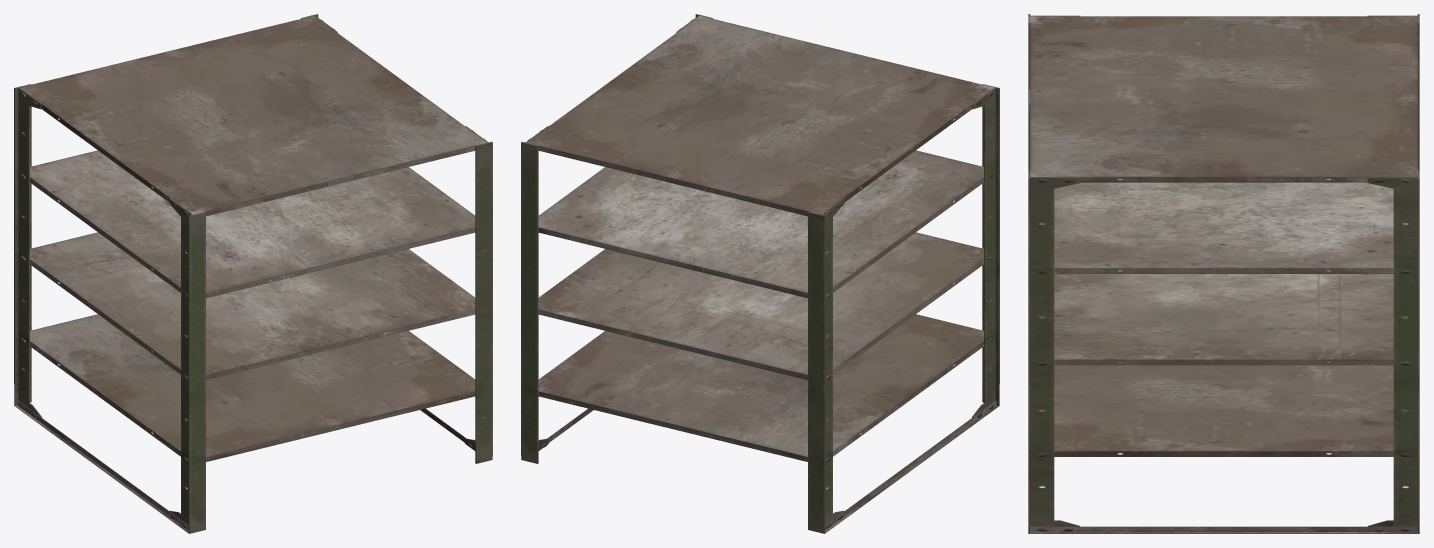
Rendered from ph-worn-metal-rack.glb.
The picture shows the model from 3 angles, left to right: view 1: azimuth 30°, elevation 25°; view 2: azimuth 150°, elevation 25°; view 3: azimuth 270°, elevation 25°; orthographic projection. The views are drawn at different scales.
Visible parts, largest first — view 1: worn_metal_rack; view 2: worn_metal_rack; view 3: worn_metal_rack.
Part boxes in pixels (left/top/right/bottom): worn_metal_rack: left=14, top=14, right=492, bottom=533; worn_metal_rack: left=521, top=14, right=999, bottom=533; worn_metal_rack: left=1028, top=14, right=1419, bottom=533.
Size of the model in its own units: 1 by 1 by 1.
1 material, 1 textured.
